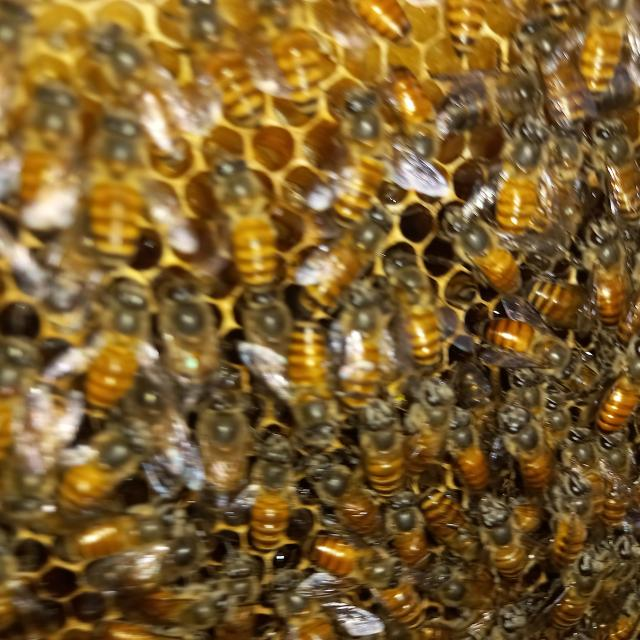honeybee: (98, 24, 187, 167), (119, 383, 212, 516), (179, 0, 268, 135), (332, 85, 421, 218), (202, 154, 282, 296), (15, 82, 85, 244), (72, 279, 154, 417), (283, 198, 382, 311), (40, 413, 139, 521), (333, 272, 403, 418), (256, 0, 337, 126), (87, 110, 148, 272), (516, 11, 592, 141), (520, 272, 617, 368), (264, 308, 340, 429), (379, 254, 456, 366), (195, 389, 268, 507), (456, 309, 574, 381), (439, 204, 518, 310), (164, 282, 228, 410), (427, 74, 557, 137), (229, 282, 297, 402), (0, 0, 82, 96), (574, 212, 638, 323), (396, 381, 464, 485), (494, 109, 546, 235), (60, 505, 182, 558), (80, 532, 194, 584), (307, 453, 370, 547), (364, 565, 441, 640), (540, 116, 586, 241), (444, 422, 508, 511), (245, 434, 294, 548), (385, 71, 437, 178), (474, 518, 540, 602), (540, 551, 600, 640), (321, 136, 379, 228), (589, 122, 640, 225), (358, 399, 407, 504), (424, 564, 498, 631), (558, 416, 612, 507), (576, 0, 622, 102), (419, 486, 484, 557), (136, 574, 215, 632), (264, 581, 341, 640), (592, 448, 640, 540), (503, 409, 557, 489), (385, 495, 431, 584), (338, 0, 416, 52), (594, 354, 640, 434), (546, 475, 584, 570), (0, 330, 24, 470), (442, 0, 490, 57), (312, 542, 372, 586), (0, 561, 31, 632), (611, 580, 640, 640), (618, 293, 639, 353), (608, 533, 634, 575)
